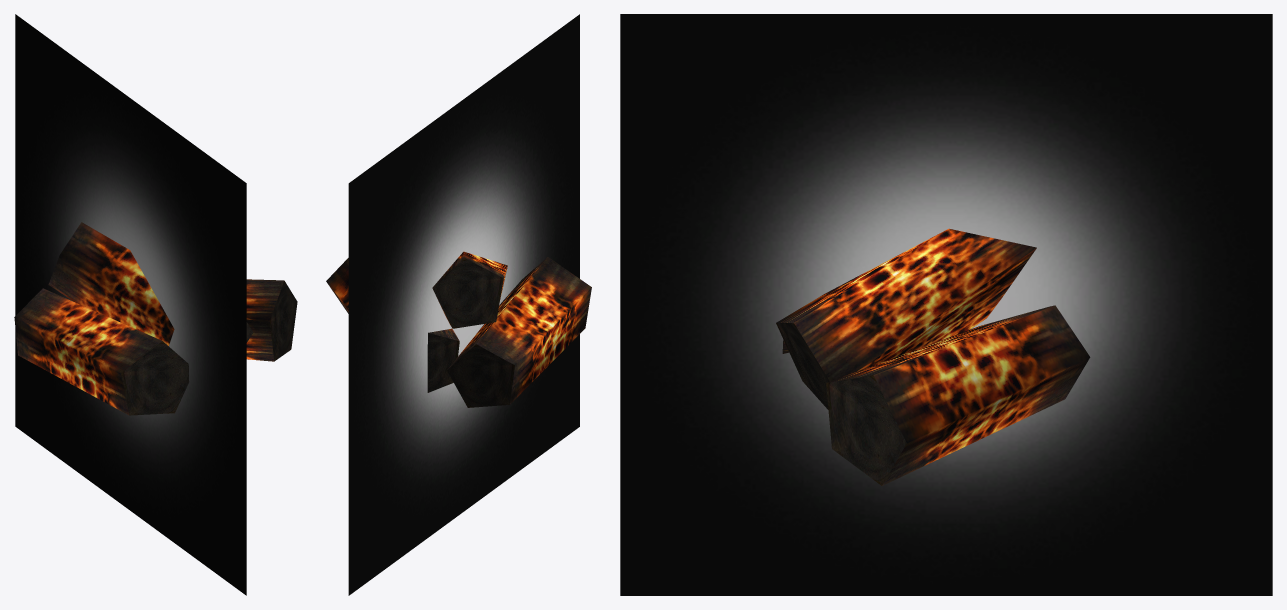
File: firewoodpile01.obj
3 renders of one model, left to right at view 1: azimuth 30°, elevation 25°; view 2: azimuth 150°, elevation 25°; view 3: azimuth 270°, elevation 25°, orthographic. The views are drawn at different scales.
Visible parts, largest first — view 1: firewoodpile012, firewoodpile010; view 2: firewoodpile012, firewoodpile010, firewoodpile011; view 3: firewoodpile012, firewoodpile010, firewoodpile011.
Boxes of the visible parts, x1,y1,x2,y2 form: firewoodpile012: (15, 14, 246, 595); firewoodpile010: (14, 222, 297, 415); firewoodpile012: (348, 14, 579, 595); firewoodpile010: (326, 251, 591, 407); firewoodpile011: (433, 258, 503, 328); firewoodpile012: (620, 14, 1272, 595); firewoodpile010: (776, 228, 1090, 485); firewoodpile011: (776, 323, 829, 409).
Size of the model in its own units: 1.62 by 2.71 by 2.75.
2 materials, 2 textured.
